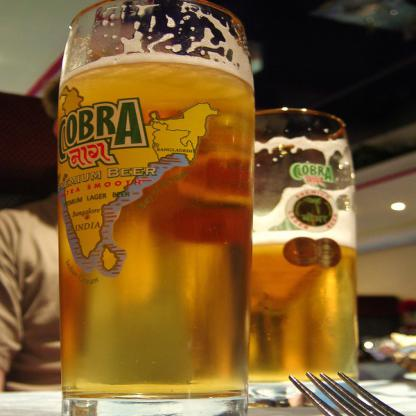drinking: (57, 0, 256, 415), (215, 109, 359, 407)
